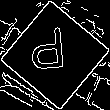P_S: (34, 28, 76, 82)
